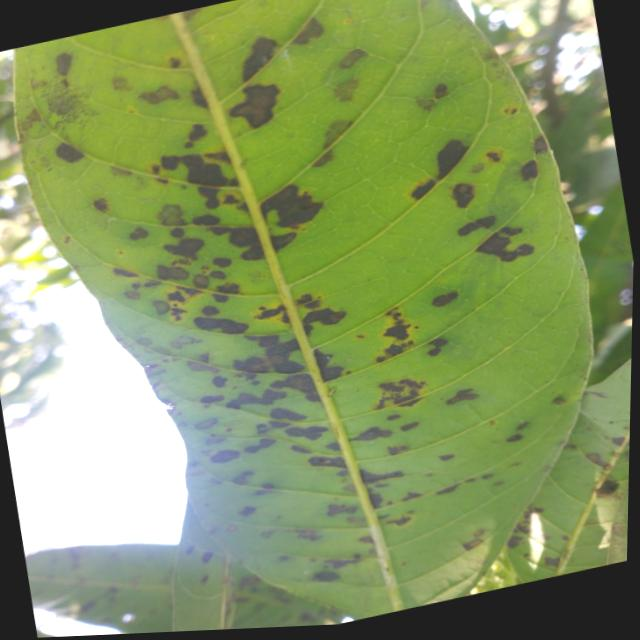Anthracnose: (257, 174, 324, 239), (210, 206, 274, 268), (473, 218, 537, 278), (229, 72, 287, 133), (262, 187, 318, 239), (173, 149, 240, 192), (235, 32, 280, 86), (370, 374, 428, 413), (426, 134, 471, 181), (314, 112, 354, 151), (292, 15, 328, 53), (313, 342, 346, 382), (193, 312, 248, 336), (138, 81, 181, 110), (163, 234, 204, 259), (456, 213, 498, 237), (332, 75, 364, 104), (449, 178, 478, 210), (335, 44, 369, 71), (53, 140, 85, 166), (155, 202, 188, 227), (410, 174, 438, 202), (304, 306, 345, 325), (209, 444, 242, 467), (351, 424, 393, 442), (360, 469, 404, 483), (186, 121, 210, 146), (188, 85, 210, 112), (431, 289, 460, 309), (53, 50, 74, 76), (446, 388, 479, 404), (312, 567, 340, 585), (308, 454, 346, 467), (157, 265, 189, 279), (427, 336, 449, 356), (127, 224, 150, 241), (91, 195, 110, 214), (521, 159, 539, 179), (531, 134, 548, 154), (110, 76, 132, 90), (416, 97, 436, 112), (114, 267, 138, 279), (434, 83, 448, 98), (485, 150, 502, 161), (168, 55, 182, 68), (552, 396, 567, 404)
black die: (224, 382, 284, 419), (276, 366, 322, 414), (246, 338, 292, 372)
